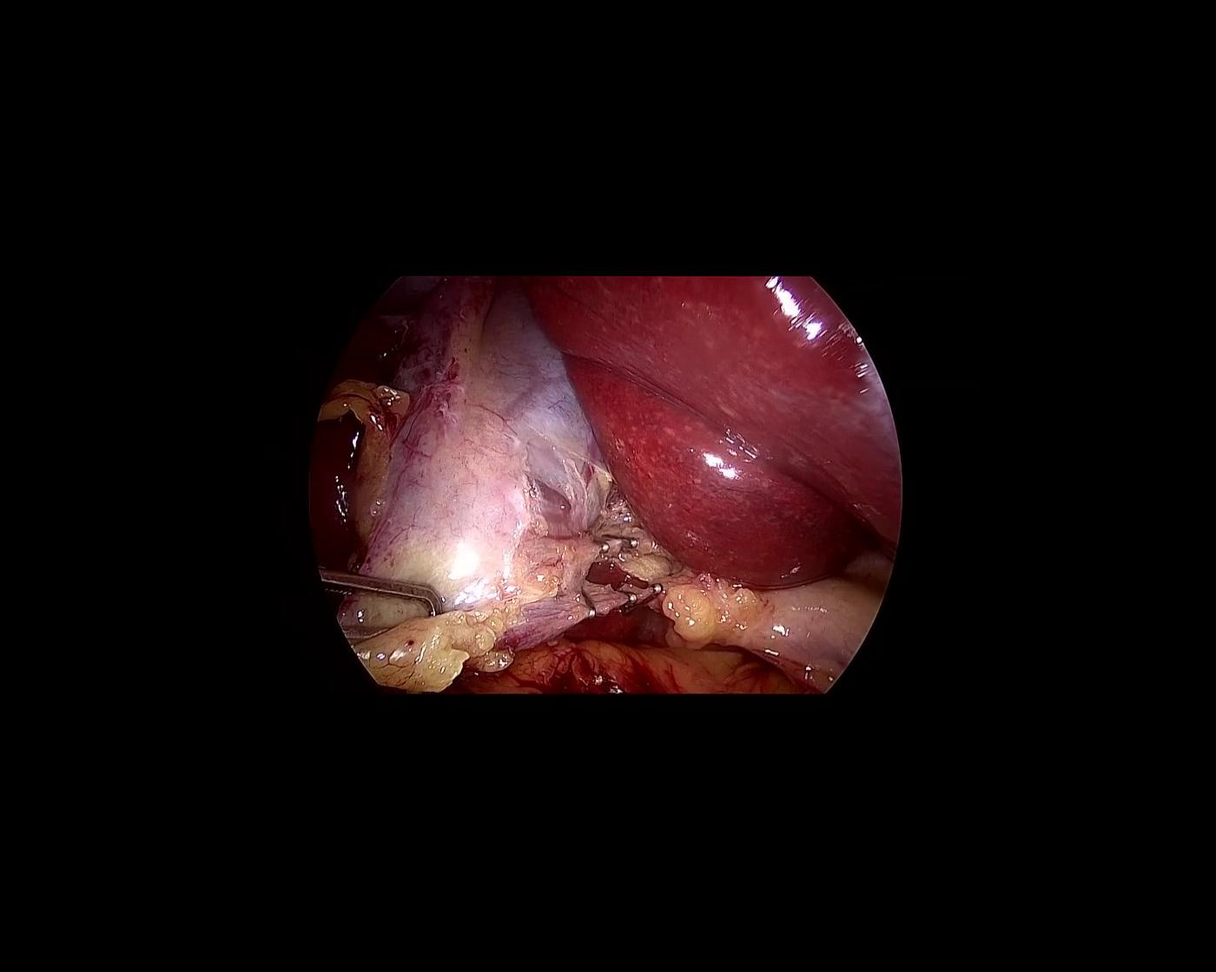Forceps: (317, 530, 443, 646)
Gallbladder: (327, 261, 628, 712)
Liver: (528, 271, 902, 588)
